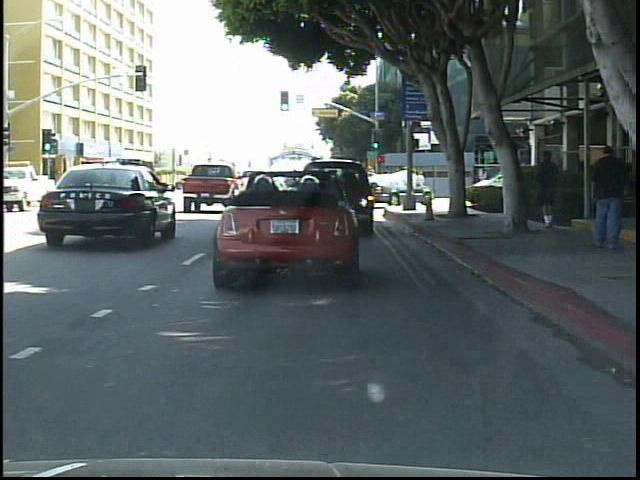person: (585, 141, 636, 260), (530, 146, 570, 236), (136, 174, 154, 202)
